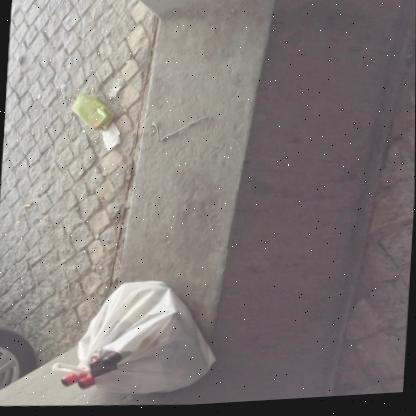Metal: (148, 118, 206, 144), (93, 234, 99, 240), (90, 266, 95, 272), (101, 172, 106, 177), (36, 94, 40, 99), (40, 107, 44, 111), (15, 219, 19, 223)
Paper: (69, 94, 114, 131), (100, 123, 119, 153), (107, 87, 119, 99), (15, 55, 21, 66)
Plastic: (51, 282, 215, 395), (89, 360, 116, 379), (60, 374, 86, 388), (101, 352, 121, 368), (77, 375, 95, 391)
